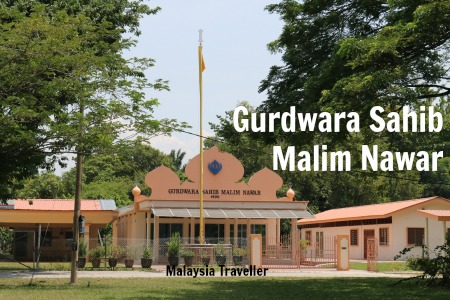Gurdwara: (123, 146, 305, 256)
